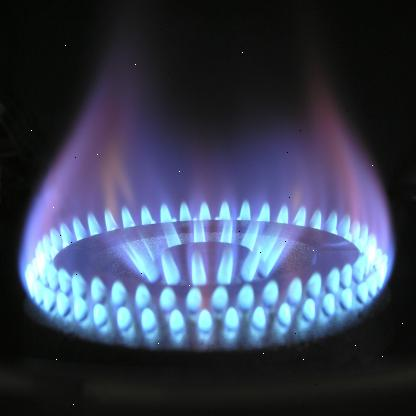fire: (16, 4, 395, 361)
